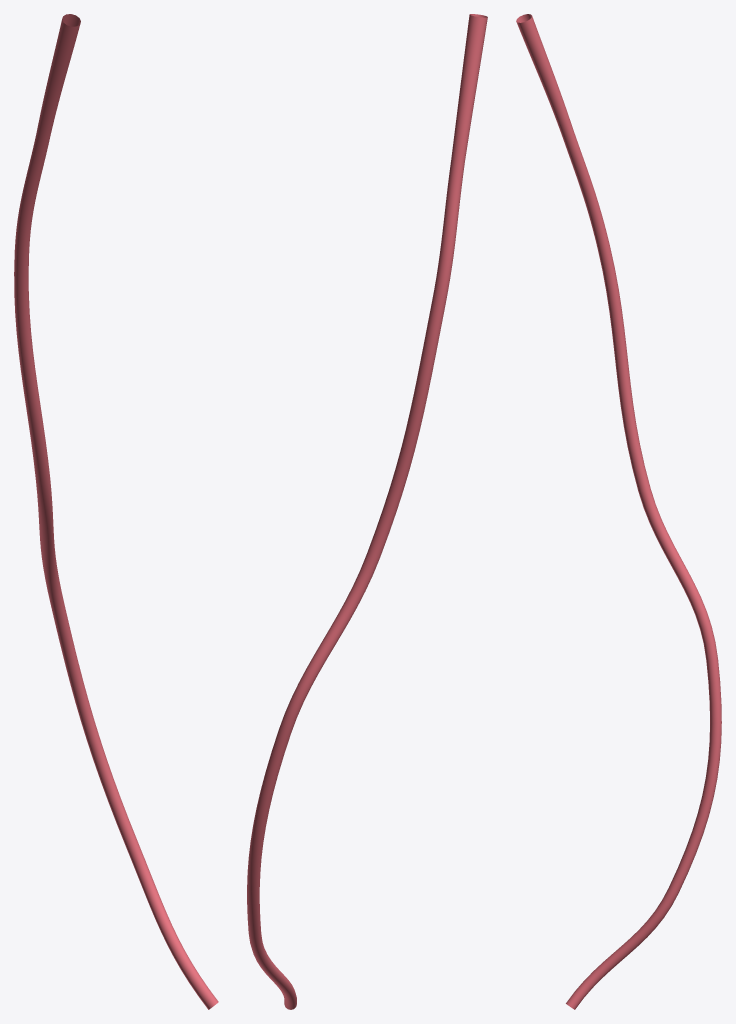
3 renders of one model, left to right at view 1: azimuth 30°, elevation 25°; view 2: azimuth 150°, elevation 25°; view 3: azimuth 270°, elevation 25°, orthographic. The views are drawn at different scales.
Parts seen in each view (by area): view 1: ZA_7b0c3bbd4a4c735c; view 2: ZA_7b0c3bbd4a4c735c; view 3: ZA_7b0c3bbd4a4c735c.
Boxes of the visible parts, left/top/right/bottom form: ZA_7b0c3bbd4a4c735c: left=14, top=14, right=218, bottom=1009; ZA_7b0c3bbd4a4c735c: left=247, top=14, right=487, bottom=1009; ZA_7b0c3bbd4a4c735c: left=516, top=14, right=721, bottom=1009.
Bounding box in the file's own units: 0.0222 × 0.1199 × 0.0242.
